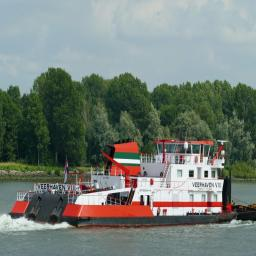tugboat: (9, 130, 256, 235)
